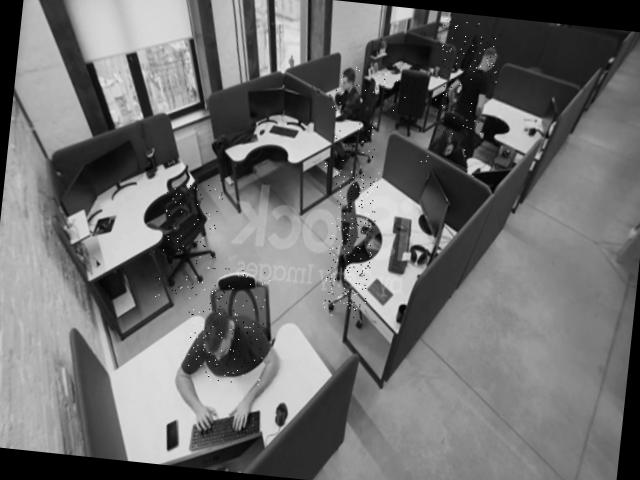empty chair: (154, 174, 225, 304), (322, 168, 381, 320), (432, 19, 480, 118), (388, 54, 432, 136), (446, 65, 474, 132)
occupiedchair: (182, 264, 271, 386), (320, 64, 387, 186), (412, 111, 487, 177)
